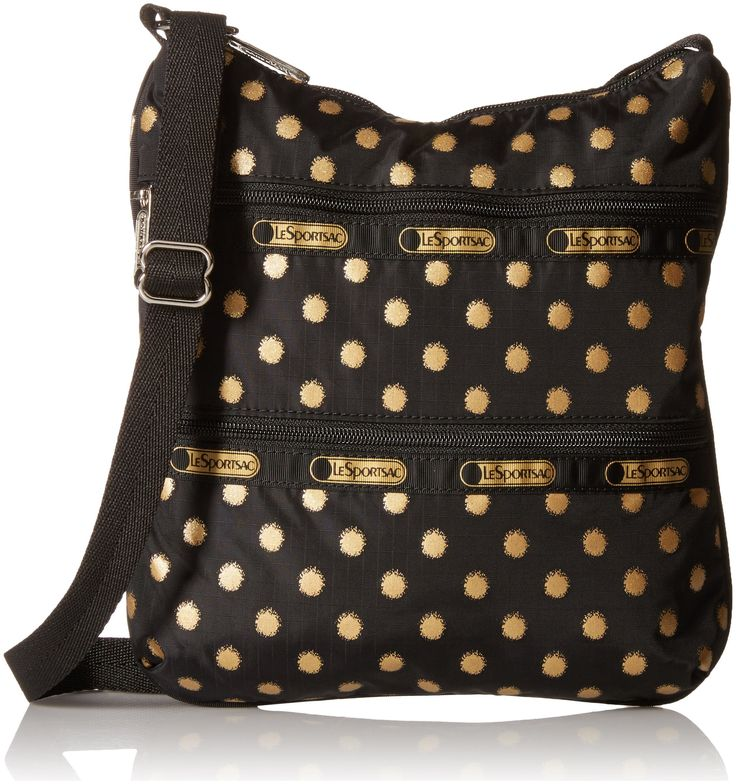nylon: (5, 3, 733, 709)
